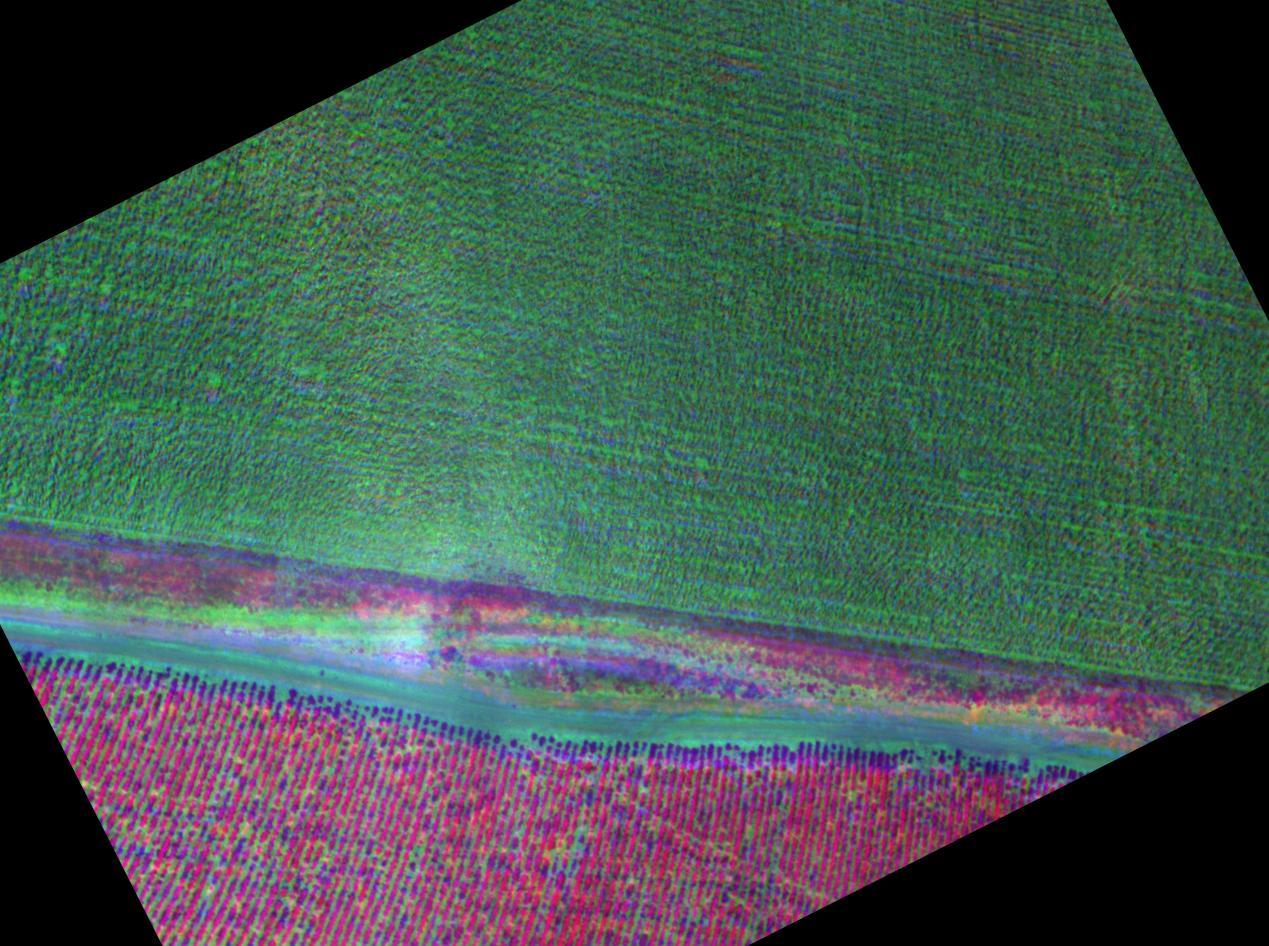dc: (731, 845, 828, 916), (533, 813, 616, 883), (111, 775, 175, 865), (206, 813, 272, 896), (341, 833, 429, 889)
